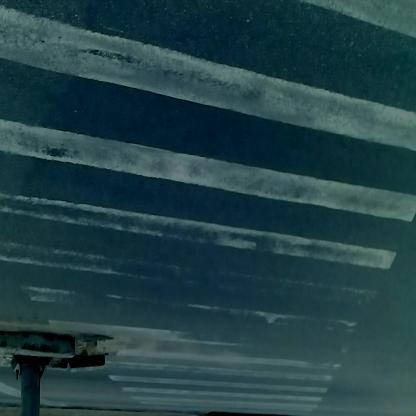crosswalk: (7, 2, 405, 407)
